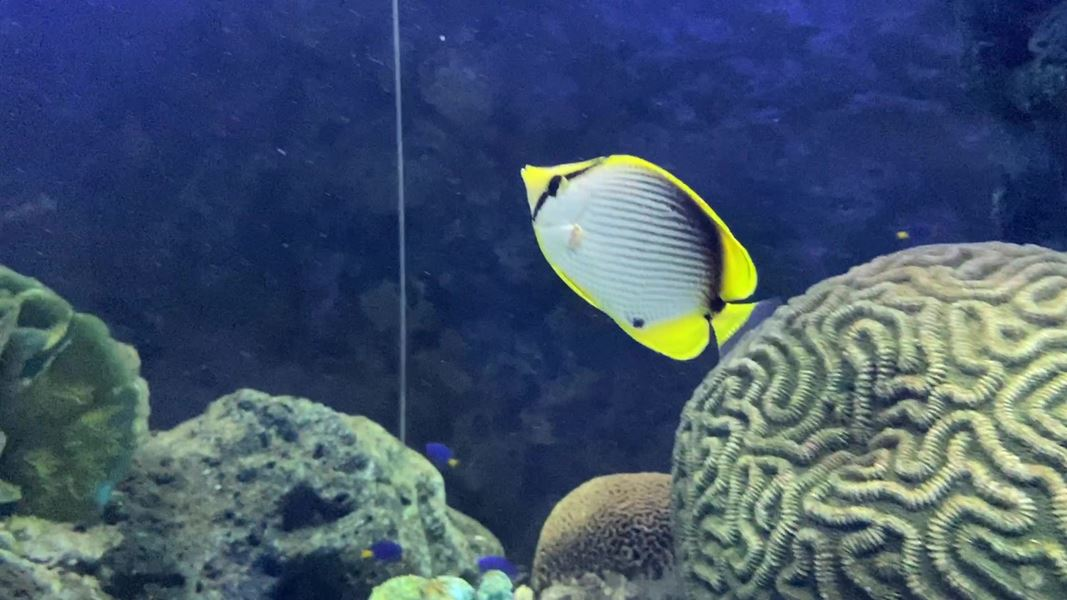Black-backed butterflyfish: (508, 144, 800, 387)
